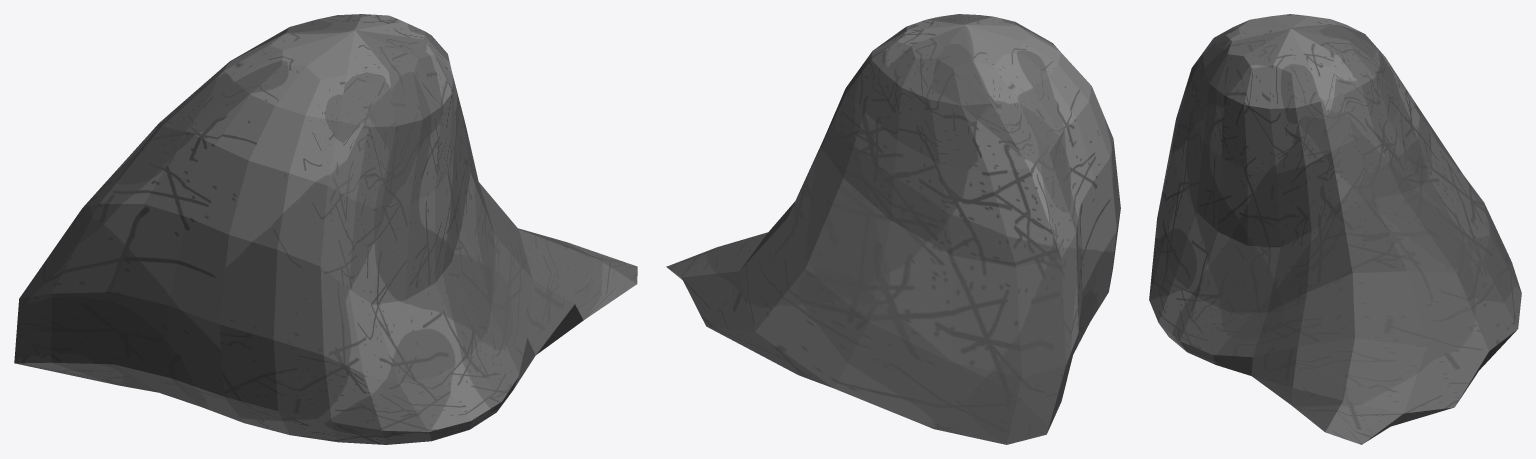
File: Rock 3-1.fbx
The picture shows the model from 3 angles, left to right: view 1: azimuth 30°, elevation 25°; view 2: azimuth 150°, elevation 25°; view 3: azimuth 270°, elevation 25°; orthographic projection. The views are drawn at different scales.
Parts seen in each view (by area): view 1: Sphere; view 2: Sphere; view 3: Sphere.
Part boxes in pixels (x1=…): Sphere: x1=14, y1=14, x2=637, y2=444; Sphere: x1=666, y1=14, x2=1120, y2=444; Sphere: x1=1149, y1=14, x2=1521, y2=444.
Size of the model in its own units: 289 by 191 by 204.
